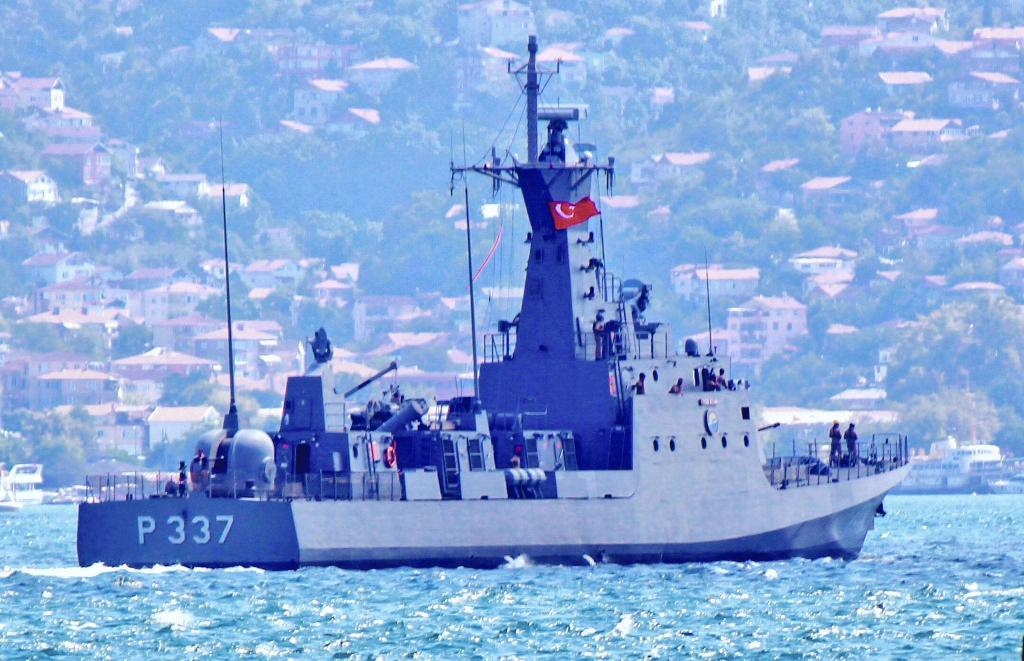Warship: (63, 32, 913, 590)
